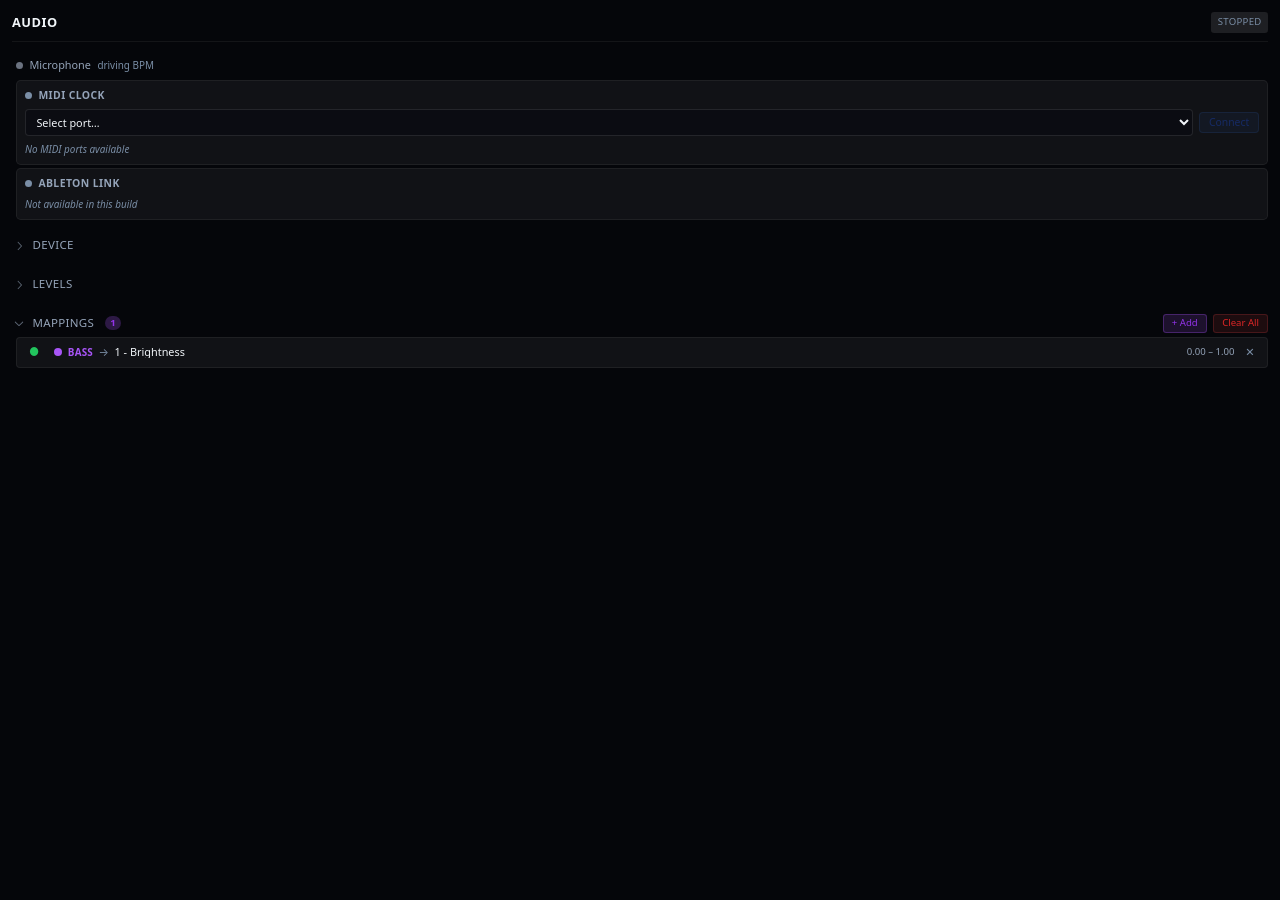
AudioPanel › mapping interactions › shows edit form when mapping clicked
Click the button with aria-label "Edit mapping" at x=150, y=352, box [49,343,1180,361]
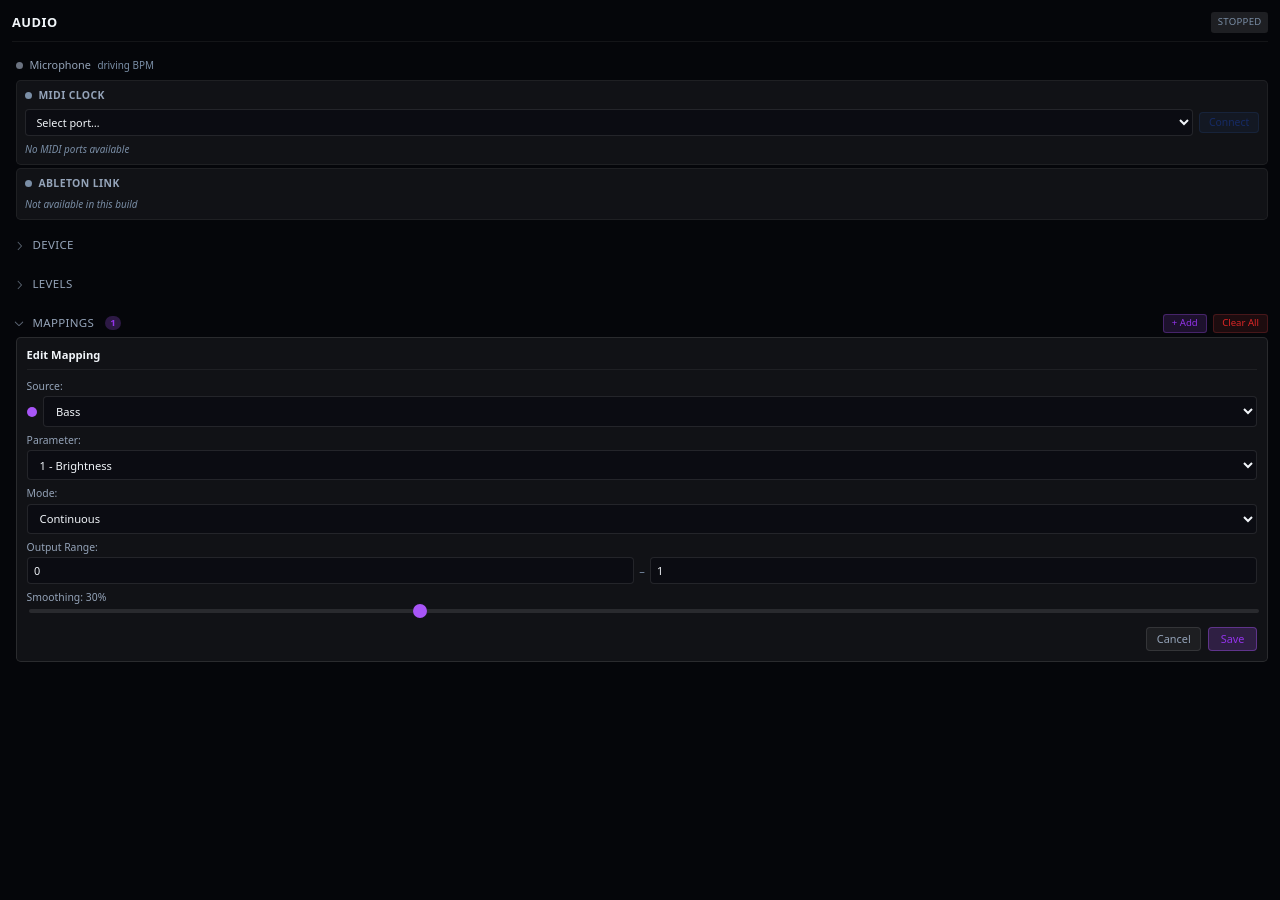
Result: the text "Edit Mapping" is shown at [27,347,1257,370]
